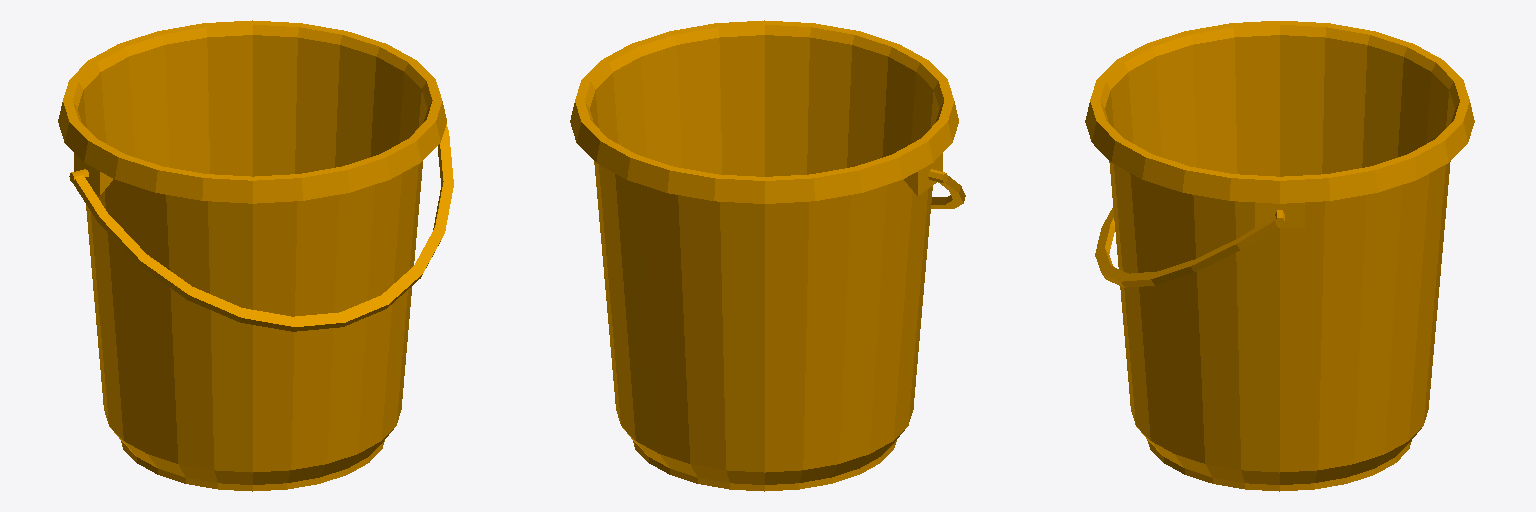
robot.urdf — none:
<robot name="none">
       <link name="none">
           <visual>
               <origin rpy="1.57 0 0" xyz="0 0 0" />
               <geometry>
                   <mesh filename="bucket.obj" />
               </geometry>
           </visual>
          <collision>
              <geometry>
                  <box size="1.000000 0.883333 0.933333" />
              </geometry>
          </collision>

          <inertial>
            <mass value="0.0" />
            <inertia ixx="0.0" ixy="0.0" ixz="0.0" iyy="0.0" iyz="0.0" izz="0.0" />
          </inertial>
      </link>
  </robot>

--- Facts derived from the render (not from the file) ---
The picture shows the robot from 3 angles, left to right: view 1: azimuth 30°, elevation 25°; view 2: azimuth 150°, elevation 25°; view 3: azimuth 270°, elevation 25°; orthographic projection.
Robot: none — 1 links, 0 joints (none); root link none; default pose: every joint at zero.
Visible links, largest first — view 1: none; view 2: none; view 3: none.
Boxes of the visible links, box(x1,y1,x2,y2) form: none: box(58, 20, 453, 491); none: box(570, 20, 965, 491); none: box(1085, 21, 1474, 491).
Size in the robot's own frame: 1 by 0.9333 by 0.884 metres.
Meshes: 1 distinct files referenced, 1 mesh visuals loaded (1 OBJ).